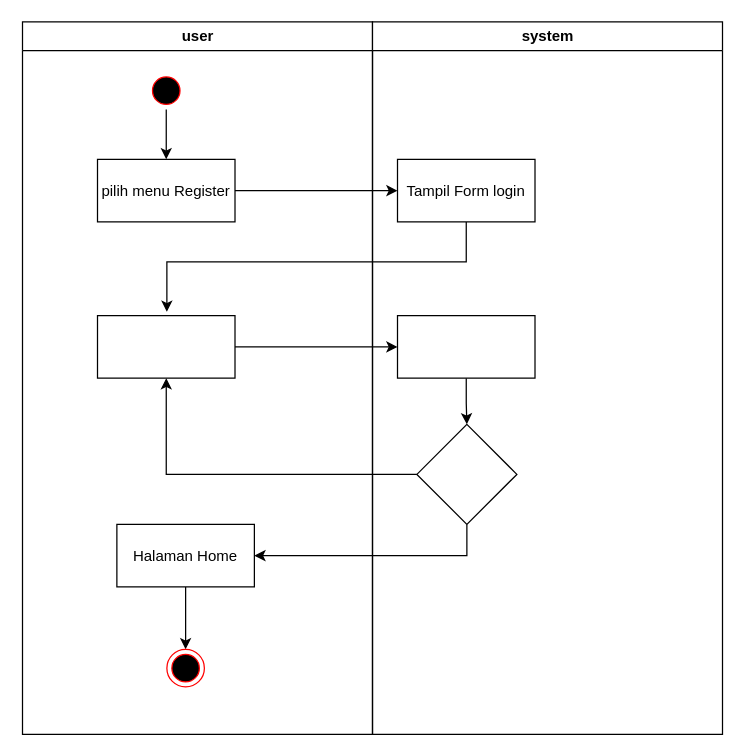
This 744x756 diagram has some shape labels left out. Here are the shapes that lost their labels. From the top down, the centre of each, then its label:
At point (165, 346): "mengisi form".
At point (465, 346): "Validasi".
